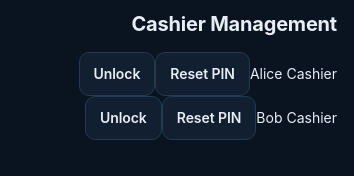
Test: CashierManagement (T078) › Unlock action (T073 bridge) › generic error message on other refusal (no category in DOM)
Expected: the text "Alice Cashier" is shown, [250,65,337,82]
Click the button "Unlock" in the row of "Alice Cashier". click: click(117, 74)
box: [78,52,155,96]
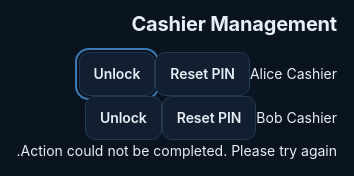
Now the message "Action could not be completed. Please try again." is shown, box [16,142,337,159]
